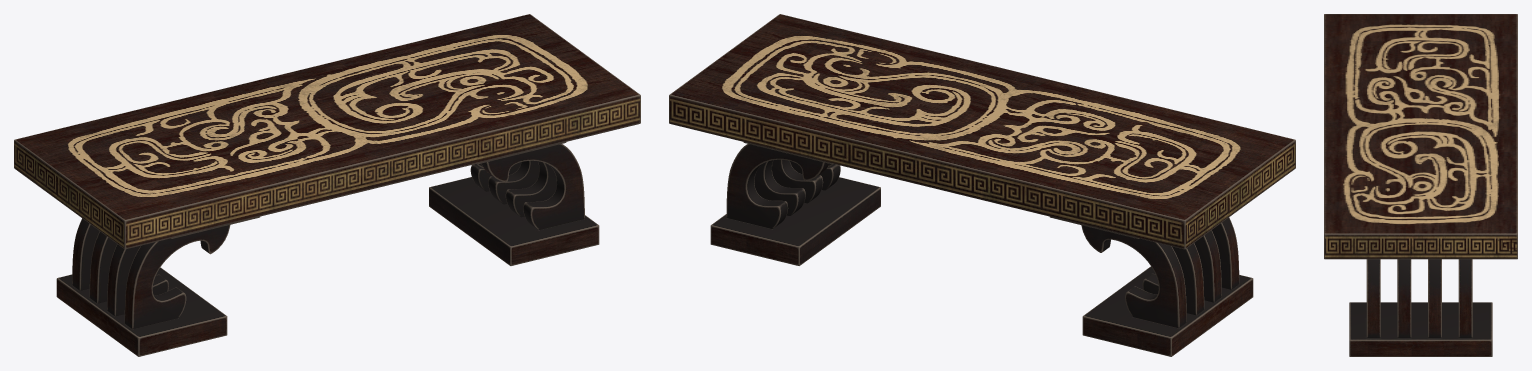
File: china_ancient_banquet_table.glb
3 views of the same model, side by side, from view 1: azimuth 30°, elevation 25°; view 2: azimuth 150°, elevation 25°; view 3: azimuth 270°, elevation 25° (orthographic). The views are drawn at different scales.
Visible parts, largest first — view 1: Box035; view 2: Box035; view 3: Box035.
Boxes of the visible parts, <box> form: Box035: <box>14,14,640,356</box>; Box035: <box>669,14,1295,356</box>; Box035: <box>1324,14,1517,356</box>.
Bounding box in the file's own units: 4024 × 1147 × 1498.
1 material, 1 textured.
